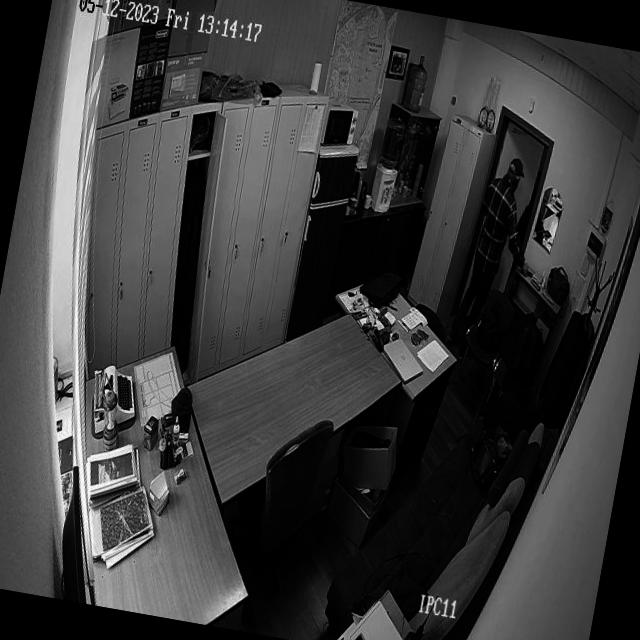gun: (508, 257, 544, 282)
person with a gun: (464, 153, 554, 330)
